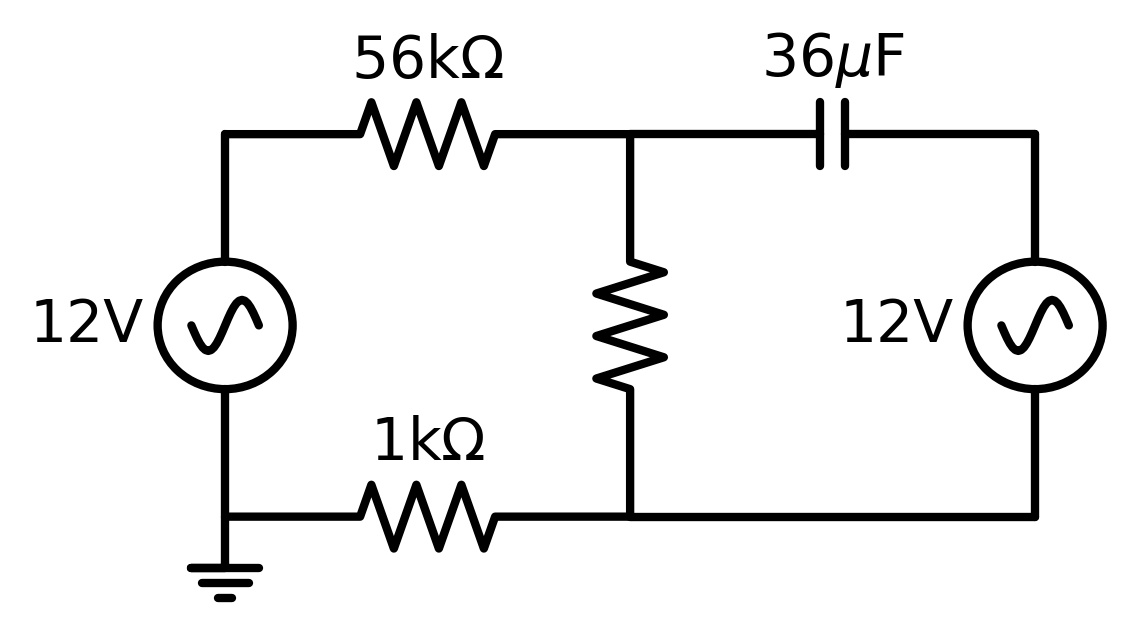capacitor: (786, 86, 878, 187)
ground: (178, 533, 277, 620)
resistor: (338, 85, 524, 197), (579, 233, 687, 415), (342, 461, 524, 568)
sourceac: (950, 250, 1119, 413), (150, 243, 300, 405)
